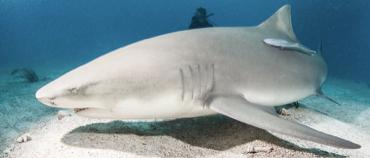Shark -Selachimorpha-: (37, 1, 359, 152)
